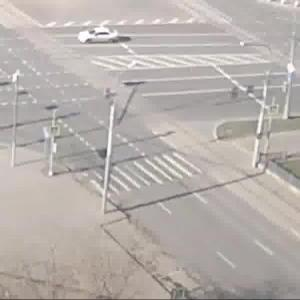car: (84, 26, 124, 48)
